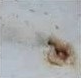Corrosion: (46, 36, 78, 69)
